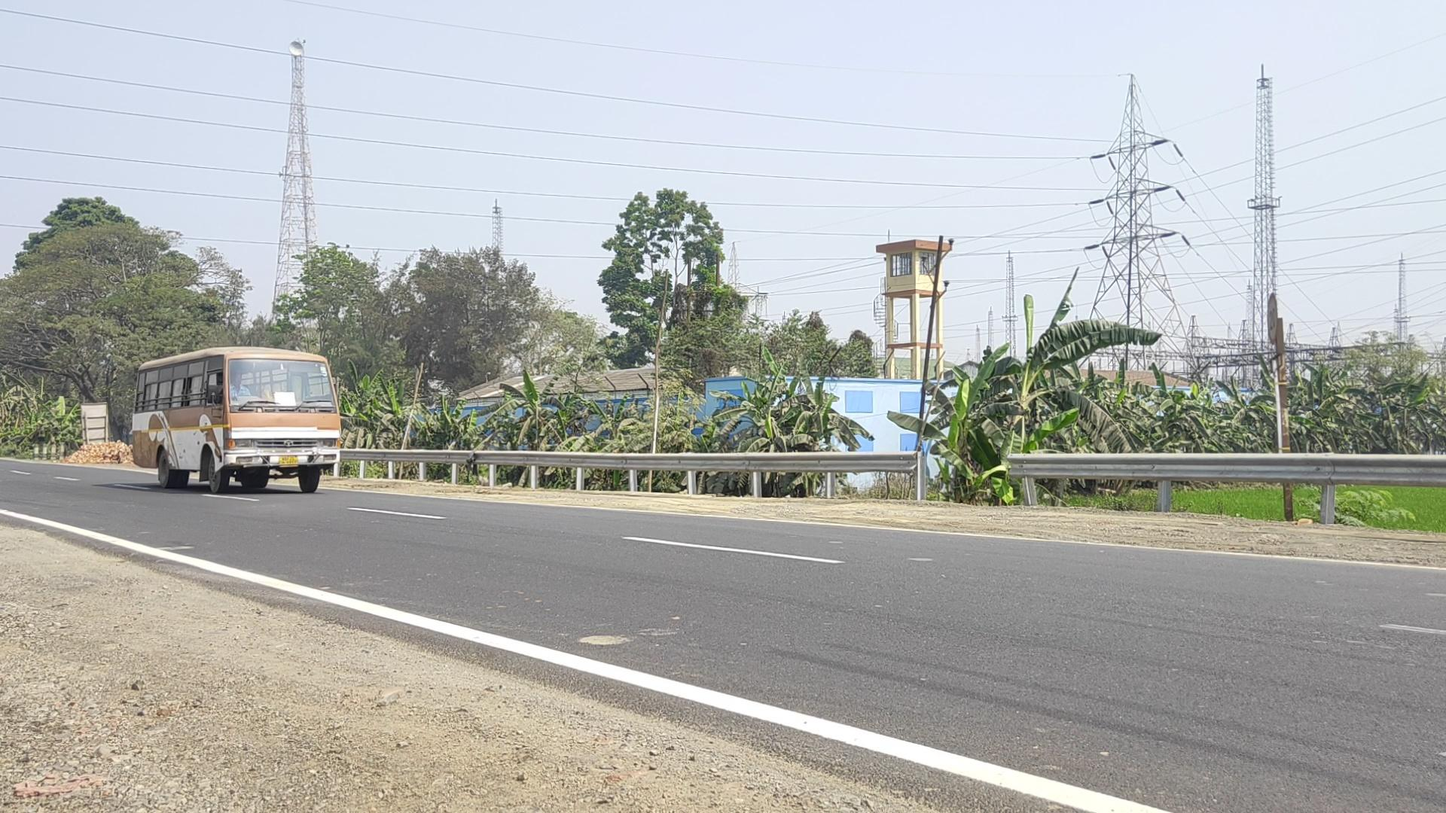Bus: (132, 346, 342, 495)
